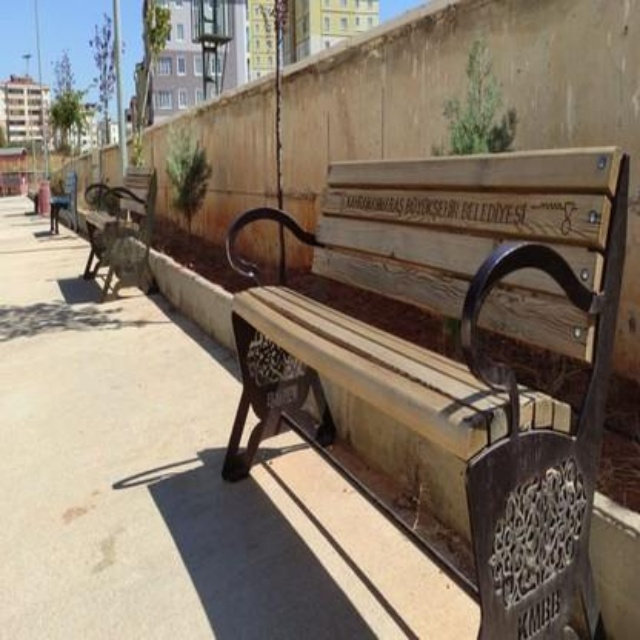obstacle: (214, 154, 623, 634), (82, 178, 168, 285)
